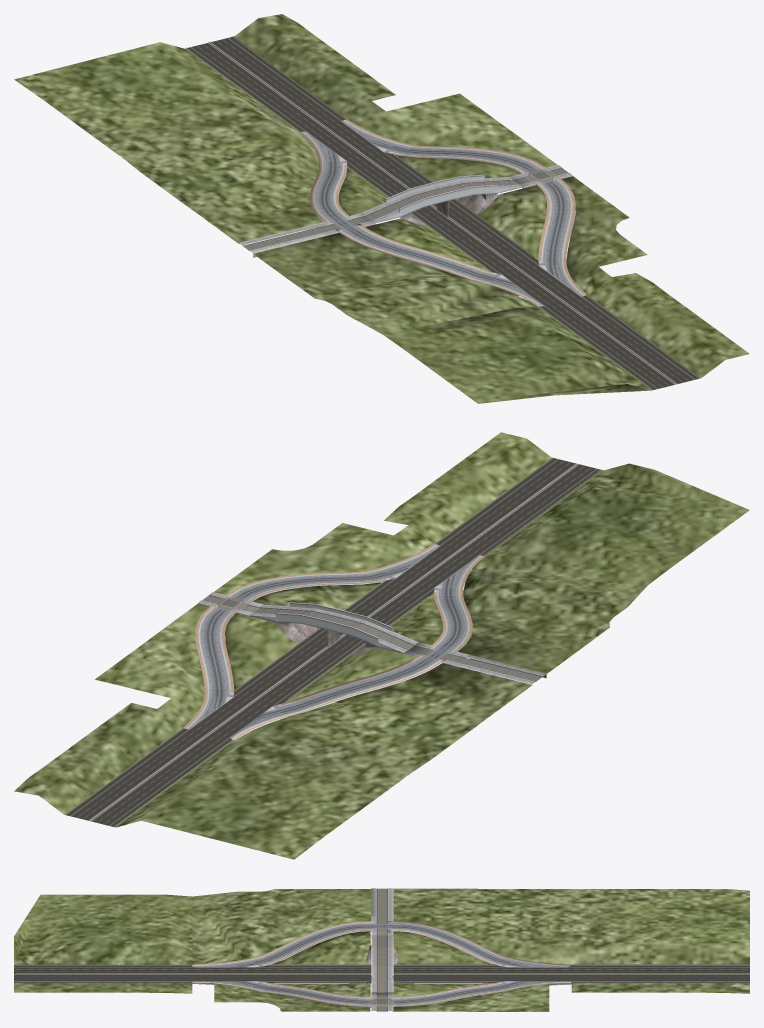
Rendered from finished.fbx.
3 renders of one model, top to bottom at view 1: azimuth 30°, elevation 25°; view 2: azimuth 150°, elevation 25°; view 3: azimuth 270°, elevation 25°, orthographic. The views are drawn at different scales.
Parts seen in each view (by area): view 1: vgsSairportland13.001, VegasSroad017, vegasEroad064.001, vegasEroad064.003, sub_roadright_l0.010; view 2: vgsSairportland13.001, VegasSroad017, vegasEroad064.001, vegasEroad064.003, sub_roadright_l0.010; view 3: vgsSairportland13.001, VegasSroad017, vegasEroad064.001, vegasEroad064.003, sub_roadright_l0.010.
Part boxes in pixels (box(x1,y1,x2,y2)): vgsSairportland13.001: box(14, 14, 749, 403); VegasSroad017: box(185, 36, 700, 390); vegasEroad064.001: box(239, 119, 587, 296); vegasEroad064.003: box(298, 131, 544, 306); sub_roadright_l0.010: box(186, 36, 698, 388); vgsSairportland13.001: box(14, 432, 749, 859); VegasSroad017: box(64, 457, 603, 827); vegasEroad064.001: box(183, 544, 546, 729); vegasEroad064.003: box(230, 555, 484, 740); sub_roadright_l0.010: box(66, 458, 600, 826); vgsSairportland13.001: box(14, 888, 749, 1011); VegasSroad017: box(14, 965, 749, 983); vegasEroad064.001: box(192, 888, 571, 1011); vegasEroad064.003: box(192, 916, 570, 967); sub_roadright_l0.010: box(16, 964, 749, 982).
Bounding box in the file's own units: 26104 × 2345 × 65957.
Materials: 25 (22 with a texture image).
